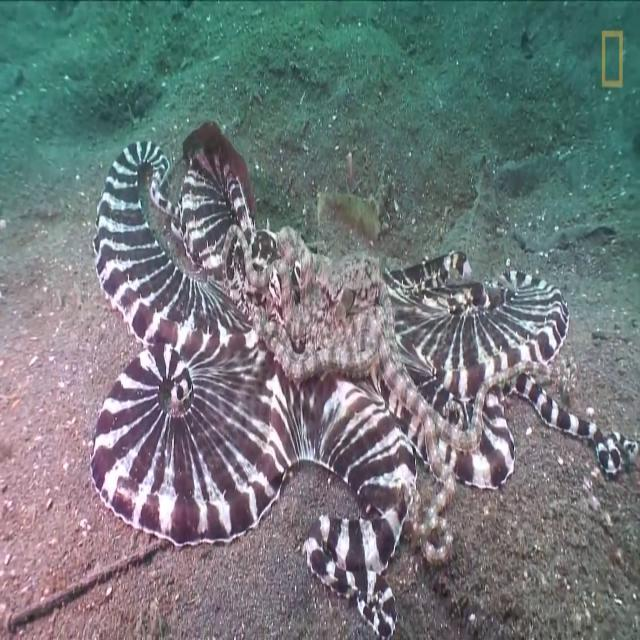octopus: (81, 104, 640, 639)
